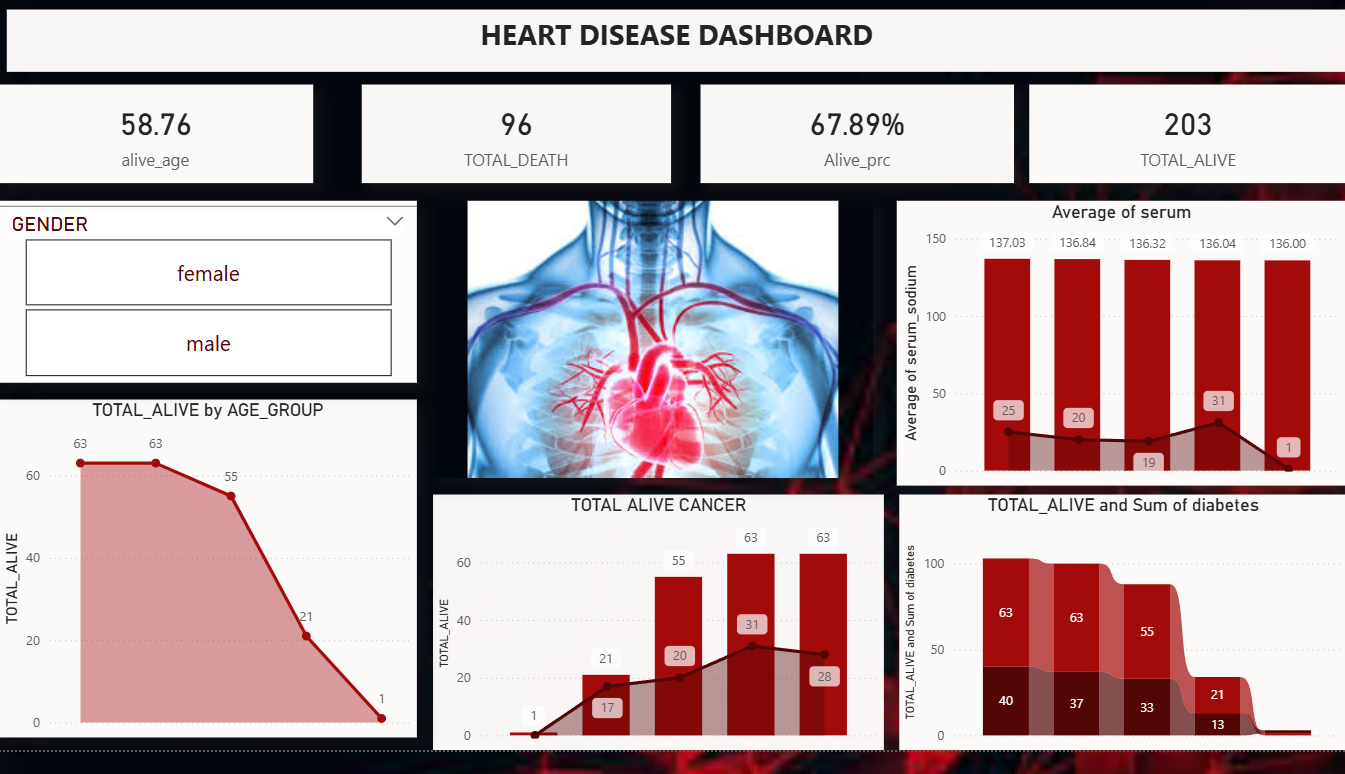

Layout of this report page (visuals, bound fields, positions):
{"tool":"powerbi","page":{"name":"Page 1","canvas":[1280,720],"ordinal":0},"visuals":[{"type":"textbox","box":[8.3,16.6,1271.9,59.3],"z":0},{"type":"card","fields":{"Values":["heart_Disease_clinical_records_.Alive_prc"]},"box":[666.9,87.8,297.8,93.3],"z":1000},{"type":"card","fields":{"Values":["heart_Disease_clinical_records_.alive_age"]},"box":[0,87.8,299.1,93.3],"z":2000},{"type":"card","fields":{"Values":["heart_Disease_clinical_records_.TOTAL_ALIVE"]},"box":[978.4,87.8,301.9,93.3],"z":3000},{"type":"card","fields":{"Values":["heart_Disease_clinical_records_.TOTAL_DEATH"]},"box":[345.8,87.8,293.7,93.3],"z":4000},{"type":"lineClusteredColumnComboChart","title":"TOTAL ALIVE CANCER","fields":{"Y":["heart_Disease_clinical_records_.TOTAL_ALIVE"],"Y2":["Sum(heart_Disease_clinical_records_.cancer)"],"Category":["heart_Disease_clinical_records_.AGE_GROUP"]},"box":[413,477.5,428.1,242.9],"z":5000},{"type":"lineClusteredColumnComboChart","title":"Average of serum","fields":{"Category":["heart_Disease_clinical_records_.AGE_GROUP"],"Y":["Avg(heart_Disease_clinical_records_.serum_sodium)"],"Y2":["Sum(heart_Disease_clinical_records_.DEATH_EVENT)"]},"box":[853.5,197.6,426.8,270.3],"z":6000},{"type":"lineChart","fields":{"Category":["heart_Disease_clinical_records_.AGE_GROUP"],"Y":["heart_Disease_clinical_records_.TOTAL_ALIVE"]},"box":[0,387,397.9,321.1],"z":7000},{"type":"ribbonChart","title":"TOTAL_ALIVE and Sum of diabetes ","fields":{"Category":["heart_Disease_clinical_records_.AGE_GROUP"],"Y":["heart_Disease_clinical_records_.TOTAL_ALIVE","Sum(heart_Disease_clinical_records_.diabetes)"]},"box":[854.9,477.5,425.4,242.9],"z":8000},{"type":"slicer","fields":{"Values":["heart_Disease_clinical_records_.Gender"]},"box":[0,198.1,397.4,172.4],"z":9000},{"type":"image","box":[412.9,198.1,417.7,263.4],"z":10000}]}

Visuals, with their boxes in screenshot pixels (x1, y1, x2, y2), scaled from the page's 1280x720 canvas onto the 1345x774 screenshot:
textbox: 9:18:1344:82
card - heart_Disease_clinical_records_.Alive_prc: 701:94:1014:195
card - heart_Disease_clinical_records_.alive_age: 0:94:314:195
card - heart_Disease_clinical_records_.TOTAL_ALIVE: 1028:94:1344:195
card - heart_Disease_clinical_records_.TOTAL_DEATH: 363:94:672:195
"TOTAL ALIVE CANCER" lineClusteredColumnComboChart: 434:513:884:773
"Average of serum" lineClusteredColumnComboChart: 897:212:1344:503
lineChart - heart_Disease_clinical_records_.AGE_GROUP x heart_Disease_clinical_records_.TOTAL_ALIVE: 0:416:418:761
"TOTAL_ALIVE and Sum of diabetes " ribbonChart: 898:513:1344:773
slicer - heart_Disease_clinical_records_.Gender: 0:213:418:398
image: 434:213:873:496
